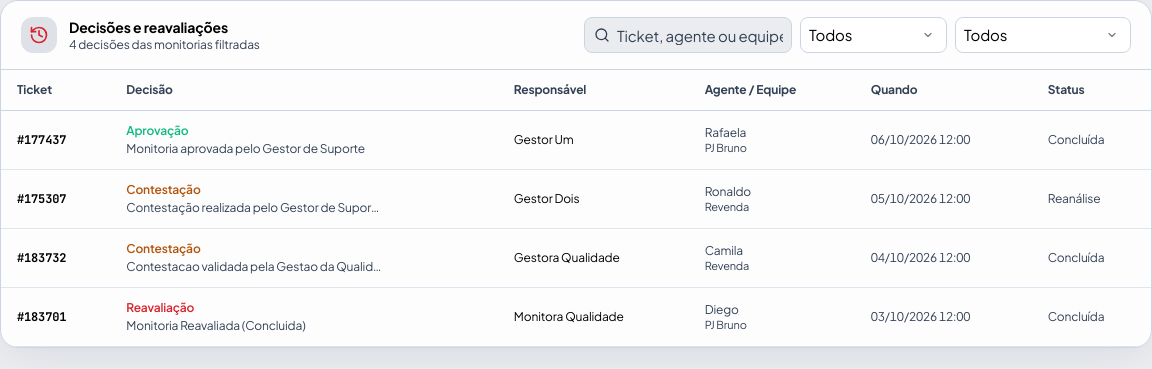
ManagerDecisionHistoryTable › mostra decisões da Gestão da Qualidade e reavaliações do monitor de qualidade
expect the button "#183732" is shown: met, box [17, 250, 66, 266]
expect the button "#183701" is shown: met, box [17, 309, 66, 325]
Select "Reavaliações" in the 1st dropdown named "Filtrar tipo" at coordinates (874, 35), box [800, 17, 947, 53]
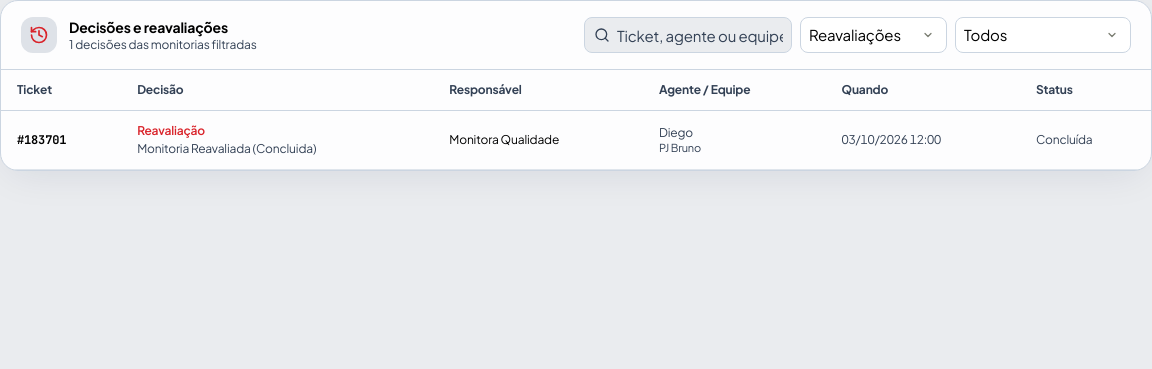
expect the button "#183701" is shown: met, box [17, 132, 66, 148]
expect the button "#183732" is gone: met
